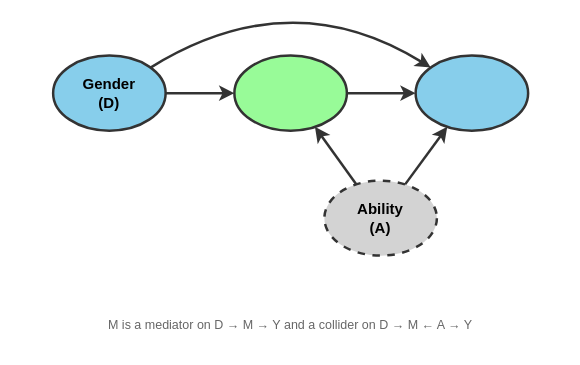
Some shapes in this 580 by 365 pixel diagram are drawn without their labels. Here are the shapes that lost their labels. From the top down, the centre of each, then its label:
At pixel 290 92: "Occupation (M)".
At pixel 471 92: "Wages (Y)".
